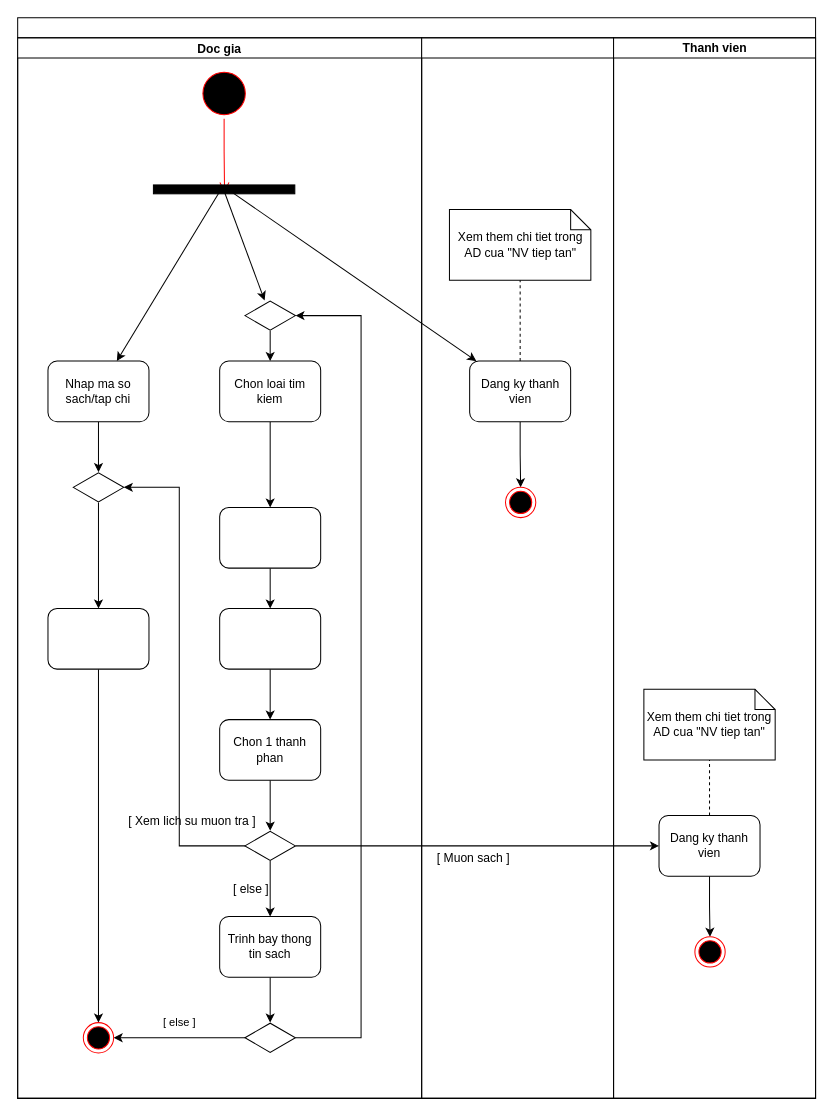
This 833x1116 diagram has some shape labels left out. Here are the shapes that lost their labels. From the top down, the centre of each, then its label:
At point 270,537: "Nhap thong tin can truy van".
At point 517,567: "NV tiep tan".
At point 98,638: "Trinh bay thong tin muon tra".
At point 270,638: "Liet ke danh sach ket qua".
At point 269,1037: "[ Tim kiem lan nua ]".
